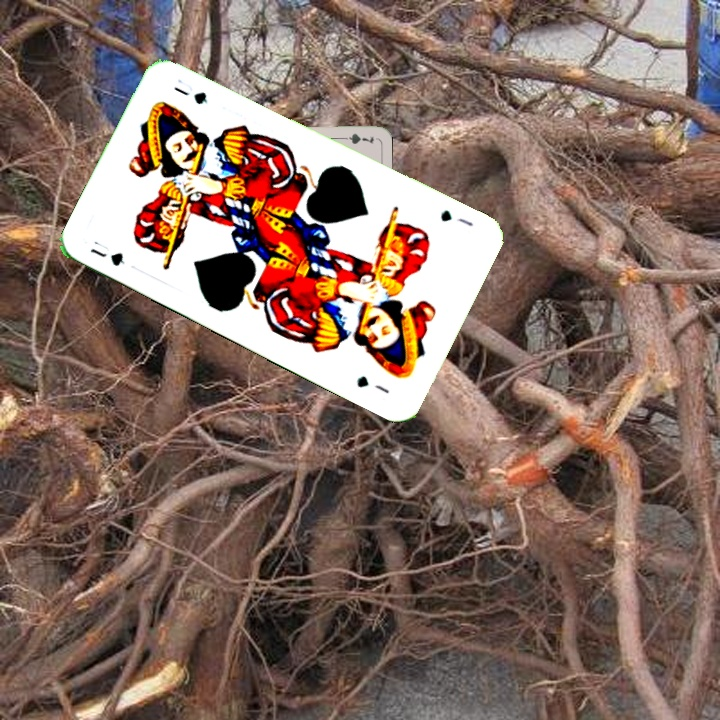G7: (335, 129, 376, 147)
GU: (86, 236, 127, 269), (436, 205, 476, 229)
